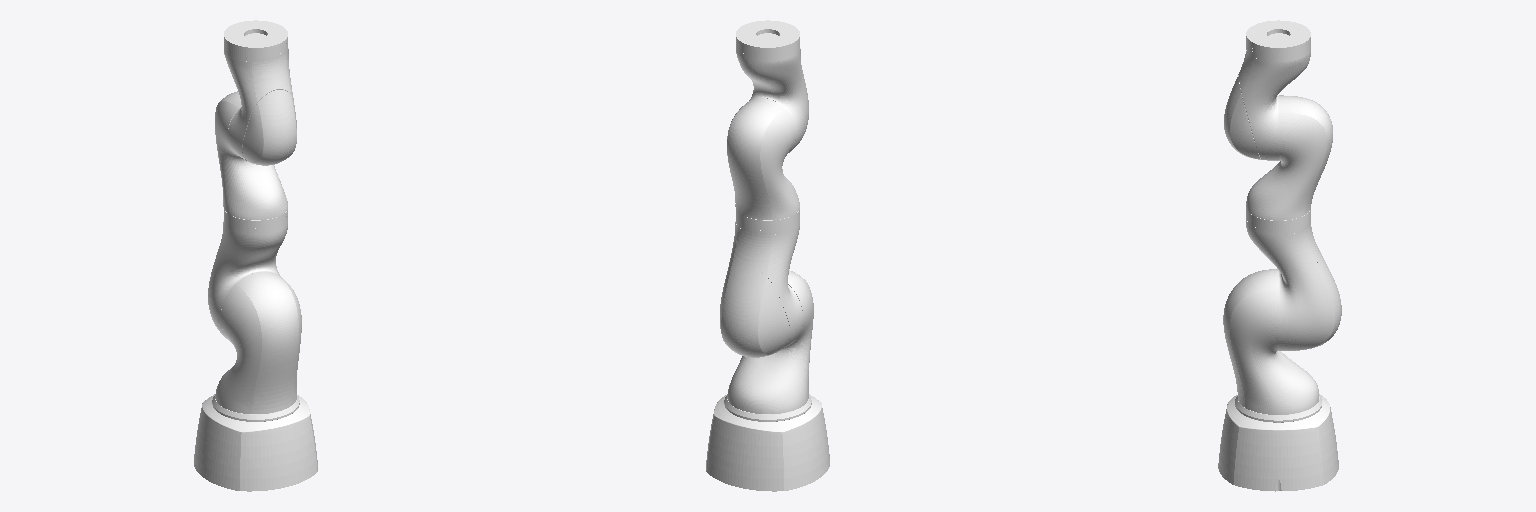
robot.urdf — med14:
<?xml version="1.0" ?>
<robot name="med14">
  <link name="world"/>

  <joint name="world_iiwa7_joint" type="fixed"> <!-- joint between world and robot -->
    <origin rpy="0 0 0" xyz="0.0 0.0 0.0"/>
    <parent link="world"/>
    <child link="base_link"/>
  </joint>

  <link name="base_link">
    <inertial>
      <origin rpy="0 0 0" xyz="-0.0018642104260720833 -9.120393625716289e-09 0.07751683665104403"/>
      <mass value="46.99016031984989"/>
      <inertia ixx="0.257284" ixy="-0.0" ixz="-0.004545" iyy="0.262253" iyz="0.0" izz="0.357074"/>
    </inertial>
    <visual>
      <origin rpy="0 0 0" xyz="0 0 0"/>
      <geometry>
        <mesh filename="package://lbr_description/meshes/med14/visual/base_link.stl"/>
      </geometry>
      <material name="white">
        <color rgba="1.0 1.0 1.0 1.0"/>
      </material>
    </visual>
    <collision>
      <origin rpy="0 0 0" xyz="0 0 0"/>
      <geometry>
        <mesh filename="package://lbr_description/meshes/med14/collision/base_link.stl"/>
      </geometry>
    </collision>
  </link>

  <joint name="A1" type="revolute">
    <origin rpy="0 0 0" xyz="0.0 0.0 0.147"/>
    <parent link="base_link"/>
    <child link="link_1"/>
    <axis xyz="0.0 0.0 0.01"/>
    <limit effort="100" lower="-2.96706" upper="2.96706" velocity="1.48352986"/>
  </joint>

  <link name="link_1">
    <inertial>
      <origin rpy="0 0 0" xyz="9.307232415315581e-08 -0.033795431550791004 0.13240370669453896"/>
      <mass value="32.252499792432545"/>
      <inertia ixx="0.258906" ixy="-0.0" ixz="-0.0" iyy="0.261201" iyz="0.038666" izz="0.096765"/>
    </inertial>
    <visual>
      <origin rpy="0 0 0" xyz="-0.0 -0.0 -0.147"/>
      <geometry>
        <mesh filename="package://lbr_description/meshes/med14/visual/link_1.stl"/>
      </geometry>
      <material name="white">
        <color rgba="1.0 1.0 1.0 1.0"/>
      </material>
    </visual>
    <collision>
      <origin rpy="0 0 0" xyz="-0.0 -0.0 -0.147"/>
      <geometry>
        <mesh filename="package://lbr_description/meshes/med14/collision/link_1.stl"/>
      </geometry>
    </collision>
  </link>

  <joint name="A2" type="revolute">
    <origin rpy="0 0 0" xyz="0.0 -0.01 0.2125"/>
    <parent link="link_1"/>
    <child link="link_2"/>
    <axis xyz="0.0 0.01 0.0"/>
    <limit effort="100" lower="-2.094395" upper="2.094395" velocity="1.48352986"/>
  </joint>

  <link name="link_2">
    <inertial>
      <origin rpy="0 0 0" xyz="0.0001358226533474577 0.0475476440926152 0.07632205850106144"/>
      <mass value="34.68757984100769"/>
      <inertia ixx="0.336472" ixy="-0.0002" ixz="0.000342" iyy="0.329156" iyz="0.06118" izz="0.100748"/>
    </inertial>
    <visual>
      <origin rpy="0 0 0" xyz="-0.0 0.01 -0.3595"/>
      <geometry>
        <mesh filename="package://lbr_description/meshes/med14/visual/link_2.stl"/>
      </geometry>
      <material name="white">
        <color rgba="1.0 1.0 1.0 1.0"/>
      </material>
    </visual>
    <collision>
      <origin rpy="0 0 0" xyz="-0.0 0.01 -0.3595"/>
      <geometry>
        <mesh filename="package://lbr_description/meshes/med14/collision/link_2.stl"/>
      </geometry>
    </collision>
  </link>

  <joint name="A3" type="revolute">
    <origin rpy="0 0 0" xyz="-0.0 0.01 0.228"/>
    <parent link="link_2"/>
    <child link="link_3"/>
    <axis xyz="0.0 0.0 0.01"/>
    <limit effort="100" lower="-2.96706" upper="2.96706" velocity="1.74532925"/>
  </joint>

  <link name="link_3">
    <inertial>
      <origin rpy="0 0 0" xyz="5.689213978259012e-08 0.03491265072974692 0.12310820658934007"/>
      <mass value="21.104680740321076"/>
      <inertia ixx="0.132439" ixy="-0.0" ixz="0.0" iyy="0.126397" iyz="-0.023446" izz="0.046954"/>
    </inertial>
    <visual>
      <origin rpy="0 0 0" xyz="0.0 -0.0 -0.5875"/>
      <geometry>
        <mesh filename="package://lbr_description/meshes/med14/visual/link_3.stl"/>
      </geometry>
      <material name="white">
        <color rgba="1.0 1.0 1.0 1.0"/>
      </material>
    </visual>
    <collision>
      <origin rpy="0 0 0" xyz="0.0 -0.0 -0.5875"/>
      <geometry>
        <mesh filename="package://lbr_description/meshes/med14/collision/link_3.stl"/>
      </geometry>
    </collision>
  </link>

  <joint name="A4" type="revolute">
    <origin rpy="0 0 0" xyz="0.0 0.0105 0.192"/>
    <parent link="link_3"/>
    <child link="link_4"/>
    <axis xyz="0.0 -0.01 0.0"/>
    <limit effort="100" lower="-2.094395" upper="2.094395" velocity="1.30899694"/>
  </joint>

  <link name="link_4">
    <inertial>
      <origin rpy="0 0 0" xyz="-3.025185496951432e-08 -0.03979329512420171 0.08694364647762443"/>
      <mass value="25.13964883334753"/>
      <inertia ixx="0.197617" ixy="-0.0" ixz="-0.0" iyy="0.187546" iyz="-0.036716" izz="0.060263"/>
    </inertial>
    <visual>
      <origin rpy="0 0 0" xyz="0.0 -0.0105 -0.7795"/>
      <geometry>
        <mesh filename="package://lbr_description/meshes/med14/visual/link_4.stl"/>
      </geometry>
      <material name="white">
        <color rgba="1.0 1.0 1.0 1.0"/>
      </material>
    </visual>
    <collision>
      <origin rpy="0 0 0" xyz="0.0 -0.0105 -0.7795"/>
      <geometry>
        <mesh filename="package://lbr_description/meshes/med14/collision/link_4.stl"/>
      </geometry>
    </collision>
  </link>

  <joint name="A5" type="revolute">
    <origin rpy="0 0 0" xyz="0.0 -0.0105 0.2075"/>
    <parent link="link_4"/>
    <child link="link_5"/>
    <axis xyz="0.0 0.0 0.01"/>
    <limit effort="100" lower="-2.96706" upper="2.96706" velocity="2.26892803"/>
  </joint>

  <link name="link_5">
    <inertial>
      <origin rpy="0 0 0" xyz="3.8871741664391765e-08 -0.029824284088761824 0.07626701716135809"/>
      <mass value="9.534880920206561"/>
      <inertia ixx="0.052905" ixy="0.0" ixz="-0.0" iyy="0.044495" iyz="0.017493" izz="0.023991"/>
    </inertial>
    <visual>
      <origin rpy="0 0 0" xyz="-0.0 0.0 -0.987"/>
      <geometry>
        <mesh filename="package://lbr_description/meshes/med14/visual/link_5.stl"/>
      </geometry>
      <material name="white">
        <color rgba="1.0 1.0 1.0 1.0"/>
      </material>
    </visual>
    <collision>
      <origin rpy="0 0 0" xyz="-0.0 0.0 -0.987"/>
      <geometry>
        <mesh filename="package://lbr_description/meshes/med14/collision/link_5.stl"/>
      </geometry>
    </collision>
  </link>

  <joint name="A6" type="revolute">
    <origin rpy="0 0 0" xyz="0.0 -0.0707 0.1925"/>
    <parent link="link_5"/>
    <child link="link_6"/>
    <axis xyz="0.0 0.01 0.0"/>
    <limit effort="100" lower="-2.094395" upper="2.094395" velocity="2.35619449"/>
  </joint>

  <link name="link_6">
    <inertial>
      <origin rpy="0 0 0" xyz="-7.073221484902805e-07 0.07101990943401978 0.004952526180380223"/>
      <mass value="14.987109331085524"/>
      <inertia ixx="0.044068" ixy="-0.0" ixz="1e-06" iyy="0.042427" iyz="0.001941" izz="0.028865"/>
    </inertial>
    <visual>
      <origin rpy="0 0 0" xyz="-0.0 0.0707 -1.1795"/>
      <geometry>
        <mesh filename="package://lbr_description/meshes/med14/visual/link_6.stl"/>
      </geometry>
      <material name="white">
        <color rgba="1.0 1.0 1.0 1.0"/>
      </material>
    </visual>
    <collision>
      <origin rpy="0 0 0" xyz="-0.0 0.0707 -1.1795"/>
      <geometry>
        <mesh filename="package://lbr_description/meshes/med14/collision/link_6.stl"/>
      </geometry>
    </collision>
  </link>

  <joint name="A7" type="revolute">
    <origin rpy="0 0 0" xyz="0.0 0.0707 0.091"/>
    <parent link="link_6"/>
    <child link="link_7"/>
    <axis xyz="0.0 0.0 0.01"/>
    <limit effort="100" lower="-3.054326" upper="3.054326" velocity="2.35619449"/>
  </joint>

  <link name="link_7">
    <inertial>
      <origin rpy="0 0 0" xyz="3.121827460016089e-06 -1.635815563460264e-06 0.0137822955218736"/>
      <mass value="1.617833997596271"/>
      <inertia ixx="0.001066" ixy="0.0" ixz="-0.0" iyy="0.001066" iyz="0.0" izz="0.001864"/>
    </inertial>
    <visual>
      <origin rpy="0 0 0" xyz="-0.0 -0.0 -1.2705"/>
      <geometry>
        <mesh filename="package://lbr_description/meshes/med14/visual/link_7.stl"/>
      </geometry>
      <material name="silver">
        <color rgba="0.7 0.7 0.7 1.0"/>
      </material>
    </visual>
    <collision>
      <origin rpy="0 0 0" xyz="-0.0 -0.0 -1.2705"/>
      <geometry>
        <mesh filename="package://lbr_description/meshes/med14/collision/link_7.stl"/>
      </geometry>
    </collision>
  </link>
</robot>

--- What the picture shows (computed from the rendered views, not written in the file) ---
Views: 3 orthographic renders of the robot side by side, from view 1: azimuth 30°, elevation 25°; view 2: azimuth 150°, elevation 25°; view 3: azimuth 270°, elevation 25°.
Robot: med14 — 9 links, 8 joints (7 revolute, 1 fixed); root link world; default pose: every joint at zero.
Links seen in each view (by area): view 1: link_1, base_link, link_4, link_2, link_3; view 2: link_2, base_link, link_3, link_1, link_4; view 3: base_link, link_1, link_2, link_4, link_3.
Link boxes in pixels (<box>): link_1: <box>215,272,301,413</box>; base_link: <box>194,394,317,491</box>; link_4: <box>224,20,296,165</box>; link_2: <box>208,210,287,341</box>; link_3: <box>215,91,287,219</box>; link_2: <box>720,210,802,357</box>; base_link: <box>706,394,829,491</box>; link_3: <box>727,98,799,219</box>; link_1: <box>727,270,813,413</box>; link_4: <box>736,20,808,152</box>; base_link: <box>1218,394,1338,491</box>; link_1: <box>1223,269,1318,414</box>; link_2: <box>1246,209,1341,350</box>; link_4: <box>1224,20,1310,160</box>; link_3: <box>1246,95,1332,220</box>.
Size in the robot's own frame: 0.2527 by 0.2586 by 0.9968 metres.
Meshes: 8 distinct files referenced, 5 mesh visuals loaded (5 binary STL); not drawn: 3 (reference not matched to a file when rendering).